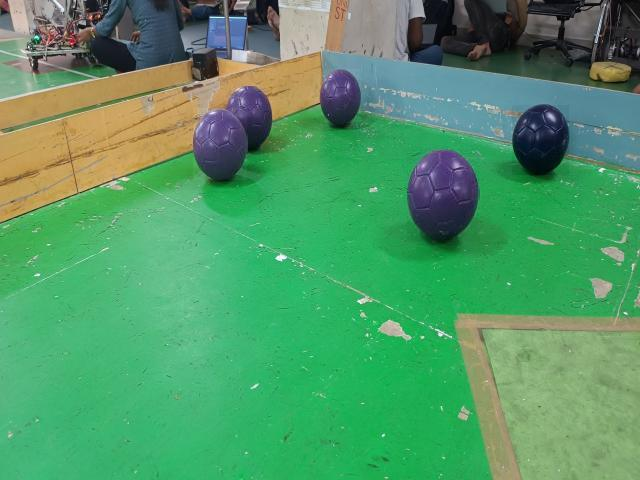jambhalya: (407, 150, 479, 241), (193, 108, 247, 180), (228, 87, 272, 149), (320, 70, 361, 126)
kaalyya: (513, 105, 569, 175)
